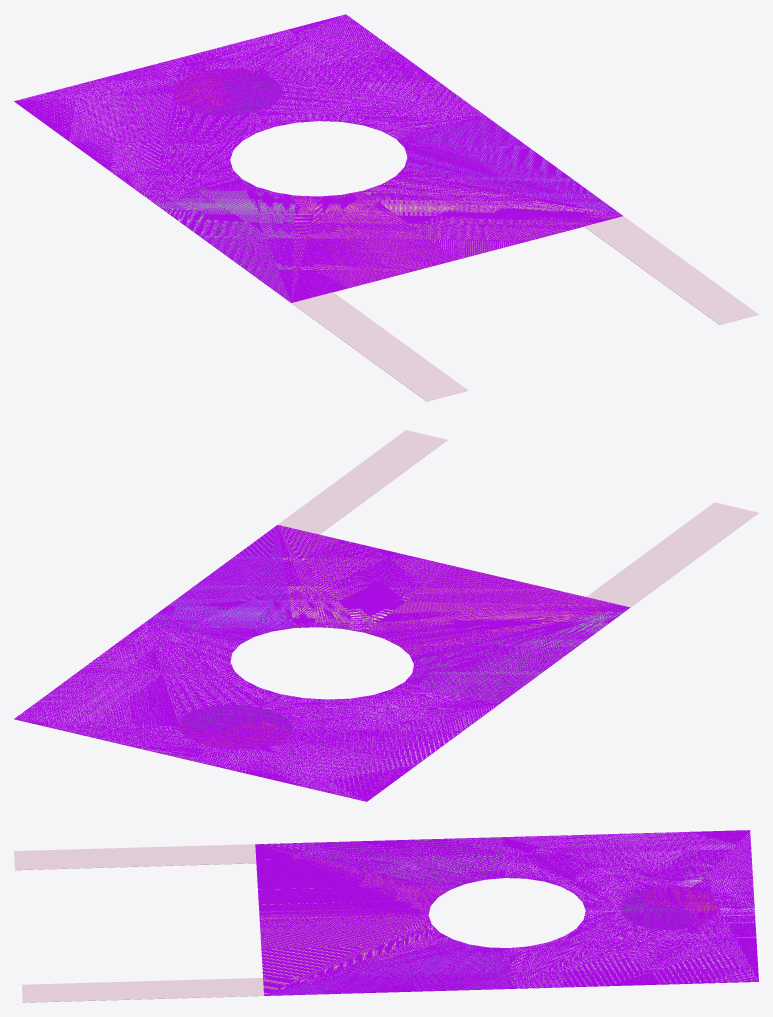
The model's file is kite6.dae.
3 views of the same model, one above another, from view 1: azimuth 30°, elevation 25°; view 2: azimuth 150°, elevation 25°; view 3: azimuth 270°, elevation 25° (orthographic). The views are drawn at different scales.
Parts seen in each view (by area): view 1: Body.005, Body.008, Body, Body.004, Body.006, group_2, group_0.002, group_3, Body.003; view 2: Body.005, Body, Body.008, Body.006, Body.004, group_2, group_0.002, group_3, Body.003; view 3: Body.005, Body, Body.008, Body.004, Body.006, group_2, group_0.002, group_3, Body.003, Body.001.
Part boxes in pixels (left/top/right/bottom): Body.005: left=14, top=14, right=484, bottom=201; Body.008: left=363, top=167, right=623, bottom=259; Body: left=291, top=190, right=456, bottom=302; Body.004: left=396, top=115, right=622, bottom=215; Body.006: left=153, top=179, right=295, bottom=302; group_2: left=292, top=292, right=468, bottom=401; group_0.002: left=584, top=216, right=758, bottom=324; group_3: left=172, top=68, right=269, bottom=110; Body.003: left=185, top=74, right=282, bottom=115; Body.005: left=14, top=622, right=498, bottom=801; Body: left=364, top=566, right=629, bottom=654; Body.008: left=277, top=525, right=453, bottom=632; Body.006: left=404, top=607, right=629, bottom=704; Body.004: left=146, top=525, right=293, bottom=643; group_2: left=586, top=502, right=758, bottom=607; group_0.002: left=278, top=430, right=447, bottom=534; group_3: left=178, top=718, right=289, bottom=749; Body.003: left=181, top=704, right=292, bottom=735; Body.005: left=502, top=830, right=758, bottom=988; Body: left=255, top=844, right=449, bottom=919; Body.008: left=259, top=915, right=452, bottom=995; Body.004: left=265, top=939, right=511, bottom=995; Body.006: left=256, top=837, right=504, bottom=889; group_2: left=14, top=844, right=256, bottom=870; group_0.002: left=21, top=978, right=263, bottom=1002; group_3: left=645, top=886, right=718, bottom=929; Body.003: left=621, top=887, right=695, bottom=930; Body.001: left=264, top=981, right=758, bottom=995.
Size of the model in its own units: 13.98 by 27.45 by 0.5992.
